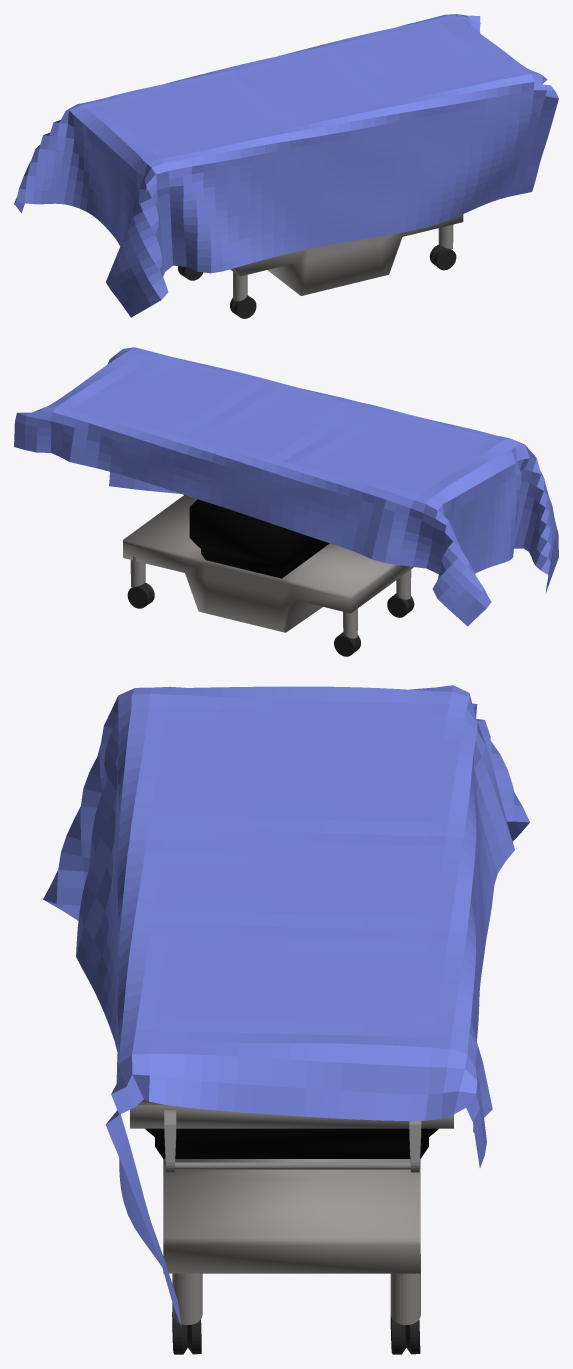
Rendered from Maca.fbx.
The picture shows the model from 3 angles, top to bottom: view 1: azimuth 30°, elevation 25°; view 2: azimuth 150°, elevation 25°; view 3: azimuth 270°, elevation 25°; orthographic projection. The views are drawn at different scales.
Visible parts, largest first — view 1: lencol_maca, maca, perna_Maca01, Perna_Maca04; view 2: lencol_maca, maca, Elevacao_Maca, Perna_Maca02, Perna_Maca03, Perna_Maca04; view 3: lencol_maca, maca, Elevacao_Maca, Perna_Maca02, perna_Maca01.
Boxes of the visible parts, x1,y1,x2,y2 form: lencol_maca: [14, 14, 558, 317]; maca: [230, 214, 463, 295]; perna_Maca01: [429, 224, 456, 270]; Perna_Maca04: [230, 268, 256, 318]; lencol_maca: [14, 347, 558, 626]; maca: [123, 495, 413, 632]; Elevacao_Maca: [189, 499, 329, 578]; Perna_Maca02: [127, 556, 154, 608]; Perna_Maca03: [334, 605, 360, 656]; Perna_Maca04: [387, 567, 414, 617]; lencol_maca: [43, 685, 529, 1326]; maca: [130, 1099, 453, 1273]; Elevacao_Maca: [145, 1128, 438, 1158]; Perna_Maca02: [390, 1254, 420, 1354]; perna_Maca01: [172, 1273, 202, 1354].
Bounding box in the file's own units: 269 × 104 × 122.
